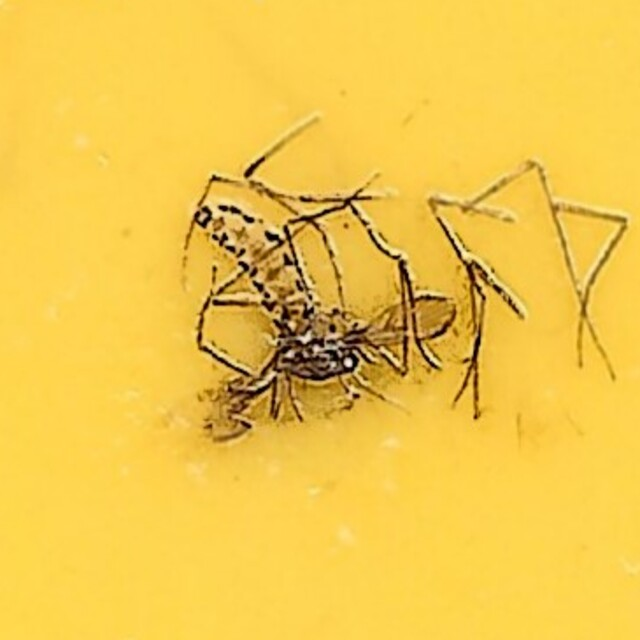Nematocera: (175, 192, 465, 448)
